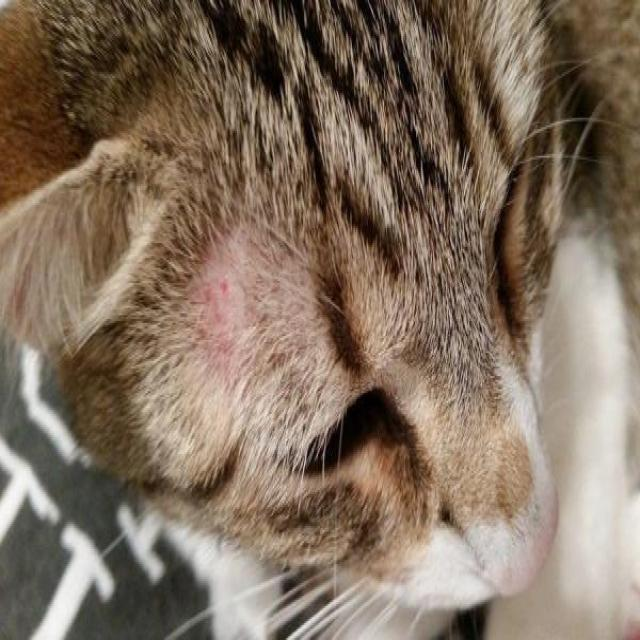cat-hairloss: (164, 189, 327, 425)
